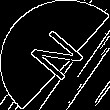N_SE: (21, 23, 89, 87)
